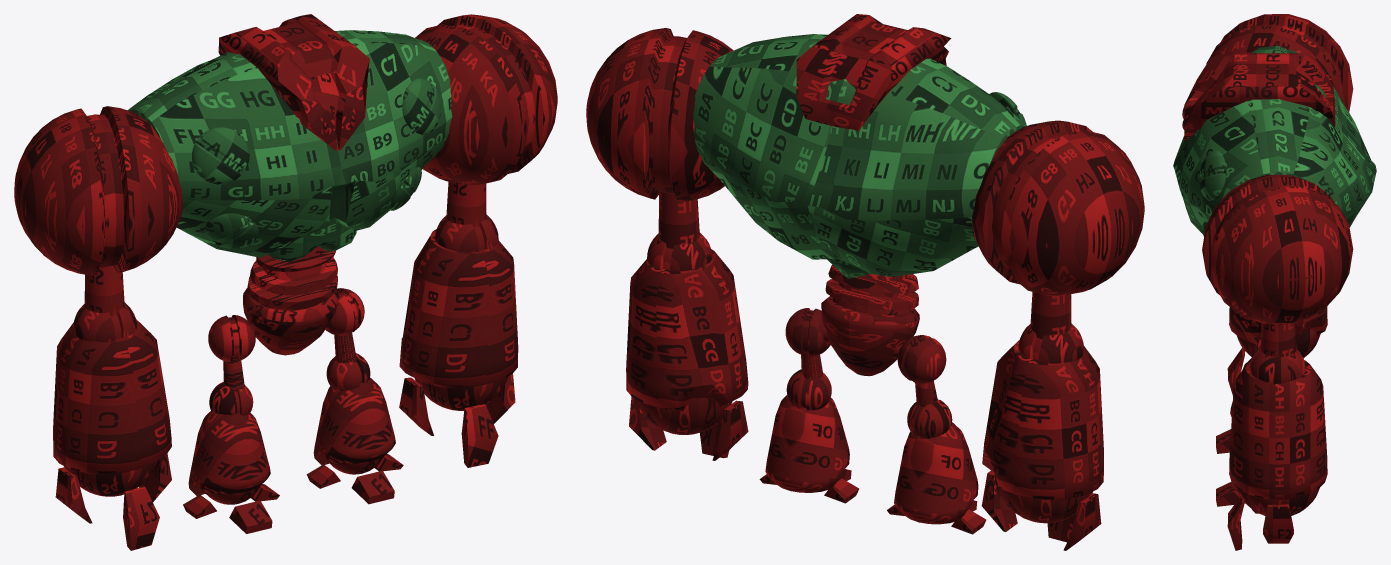
The model's file is Robot Fini.fbx.
The picture shows the model from 3 angles, left to right: view 1: azimuth 30°, elevation 25°; view 2: azimuth 150°, elevation 25°; view 3: azimuth 270°, elevation 25°; orthographic projection. The views are drawn at different scales.
Parts seen in each view (by area): view 1: Body2, Shoulder_Right, Shoulder_Left, Forearm_Left, Forearm_Right, Head, Calve_Right, Calve_Left, Robot_Group_Torso_Group_Waist2, Robot_Group1_Torso_Group_Crotch_Piece2, Screw_Right_Top, Claw_02_Left (+21 smaller); view 2: Body2, Shoulder_Right, Shoulder_Left, Forearm_Left, Forearm_Right, Head, Calve_Right, Calve_Left, Robot_Group1_Torso_Group_Crotch_Piece2, Robot_Group_Torso_Group_Waist2, Hand_Left, Bicep_Left (+12 smaller); view 3: Shoulder_Left, Body2, Forearm_Left, Head, Shoulder_Right, Elbow_Left, Bicep_Left, Claw_03_Left, Screw_Left_Top, Hand_Left, Forearm_Right, Hand_Right (+5 smaller).
Part boxes in pixels (box(x1,y1,x2,y2)): Body2: box(128, 30, 452, 257); Shoulder_Right: box(14, 106, 182, 275); Shoulder_Left: box(415, 14, 557, 185); Forearm_Left: box(399, 229, 518, 387); Forearm_Right: box(53, 319, 171, 474); Head: box(218, 14, 369, 150); Calve_Right: box(188, 411, 270, 495); Calve_Left: box(313, 377, 395, 465); Robot_Group_Torso_Group_Waist2: box(247, 246, 337, 310); Robot_Group1_Torso_Group_Crotch_Piece2: box(243, 288, 338, 355); Screw_Right_Top: box(192, 127, 249, 184); Claw_02_Left: box(461, 404, 498, 467); Body2: box(693, 34, 1026, 276); Shoulder_Right: box(972, 120, 1144, 296); Shoulder_Left: box(586, 28, 733, 201); Forearm_Left: box(626, 249, 748, 410); Forearm_Right: box(982, 340, 1103, 500); Head: box(796, 14, 951, 130); Calve_Right: box(894, 422, 978, 524); Calve_Left: box(765, 395, 849, 492); Robot_Group1_Torso_Group_Crotch_Piece2: box(821, 296, 919, 376); Robot_Group_Torso_Group_Waist2: box(825, 265, 918, 315); Hand_Left: box(635, 397, 732, 434); Bicep_Left: box(658, 192, 699, 248); Shoulder_Left: box(1202, 174, 1353, 324); Body2: box(1173, 45, 1376, 233); Forearm_Left: box(1229, 360, 1327, 500); Head: box(1184, 53, 1335, 140); Shoulder_Right: box(1206, 14, 1353, 112); Elbow_Left: box(1249, 347, 1305, 383); Bicep_Left: box(1260, 322, 1296, 357); Claw_03_Left: box(1263, 504, 1293, 543); Screw_Left_Top: box(1199, 150, 1226, 200); Hand_Left: box(1237, 488, 1319, 515); Forearm_Right: box(1229, 306, 1327, 342); Hand_Right: box(1236, 329, 1320, 358).
Size of the model in its own units: 17.47 by 14.87 by 6.69.
Materials: 2 (2 with a texture image).
